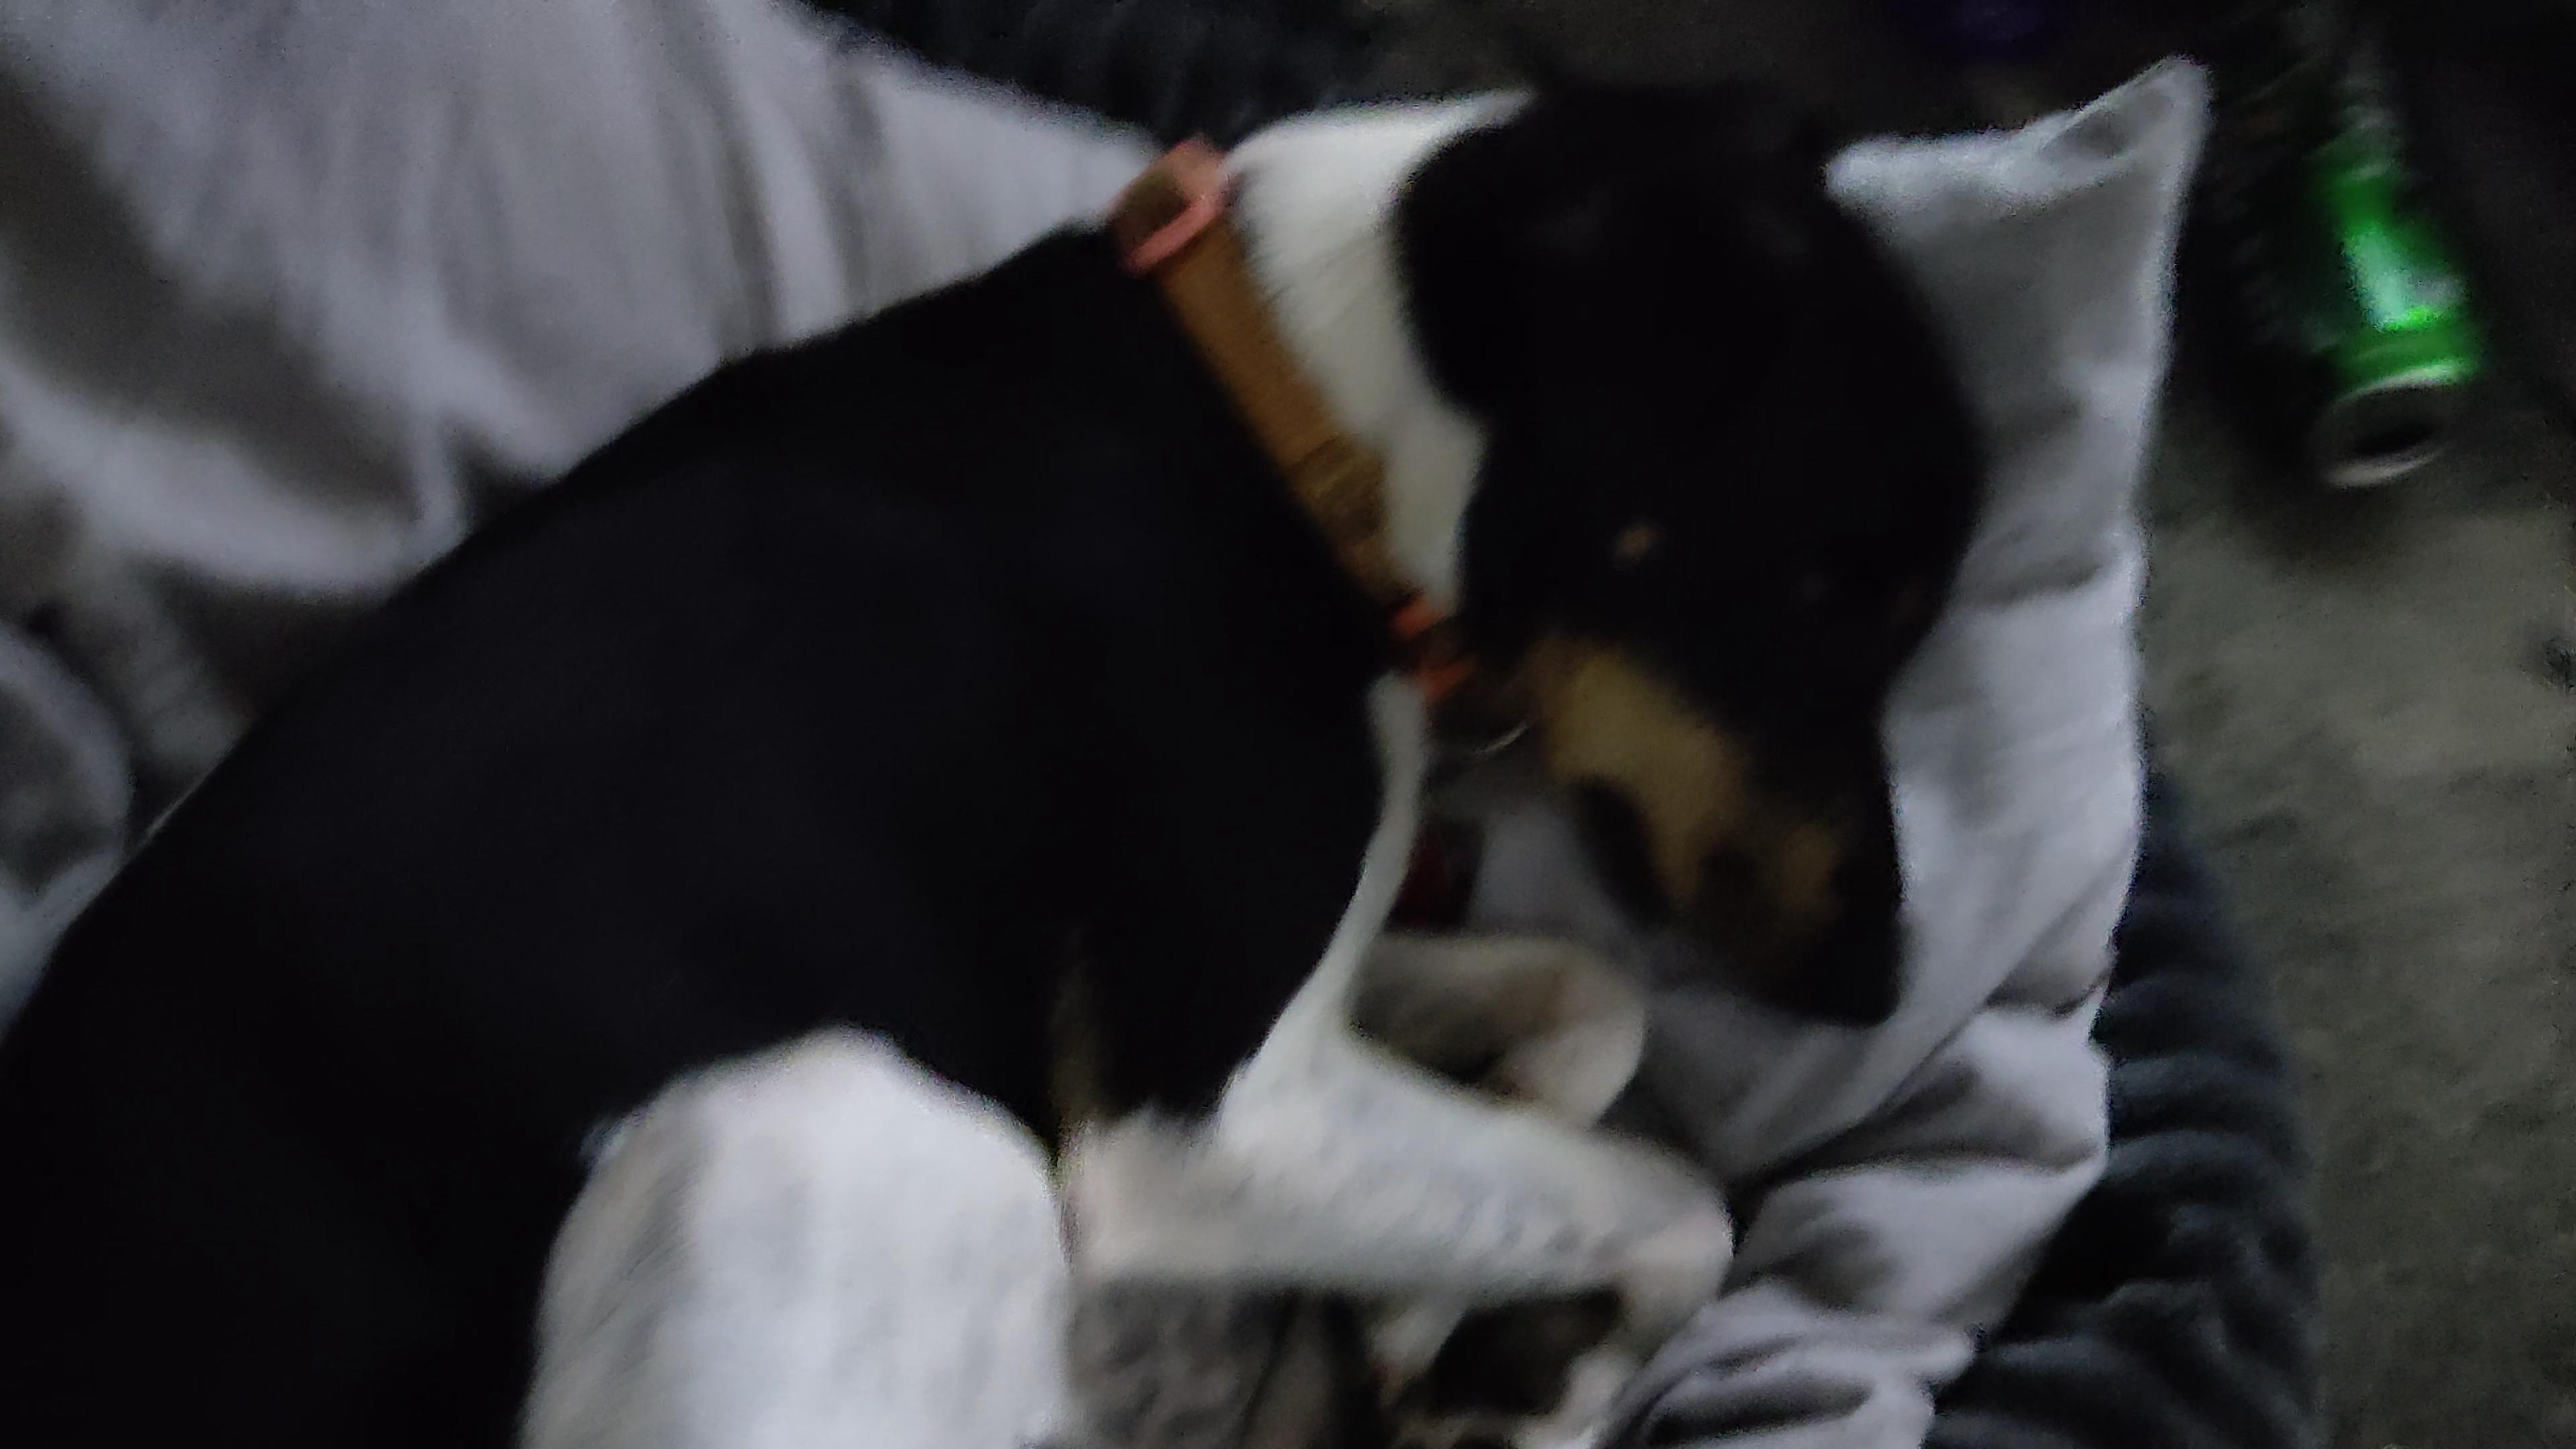Dog: (0, 21, 2031, 1449)
